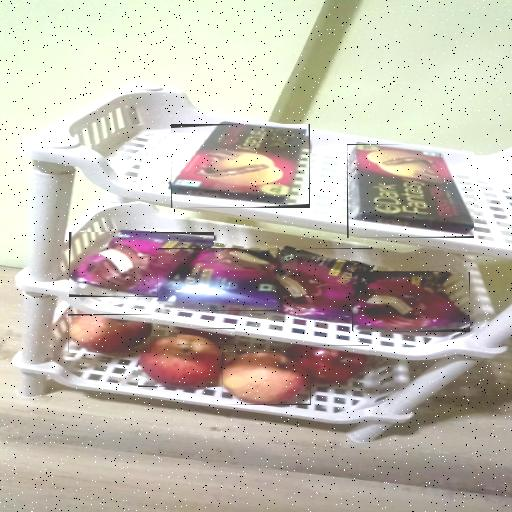Apple: (222, 352, 311, 405), (138, 336, 224, 387), (68, 314, 151, 353), (289, 345, 369, 383), (177, 328, 235, 345)
Choco Fills: (347, 144, 474, 238), (171, 124, 310, 208)
Choco Pie: (69, 232, 214, 297), (159, 248, 279, 311), (352, 272, 470, 332), (275, 248, 373, 320)
